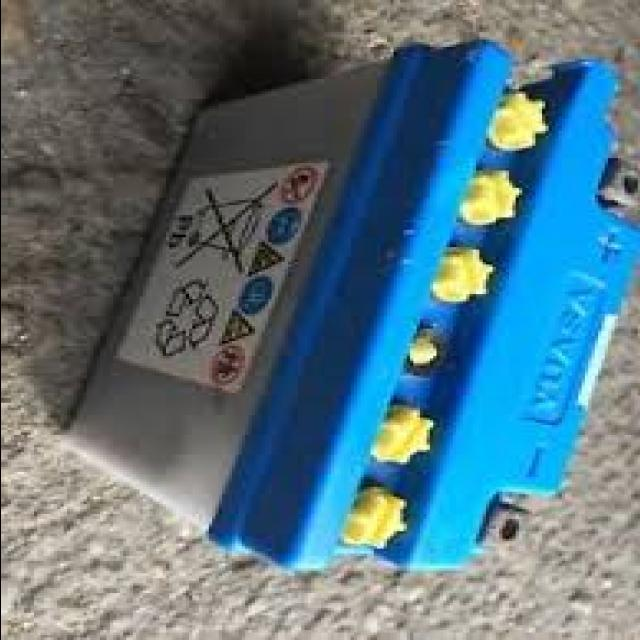b3: (73, 39, 640, 580)
